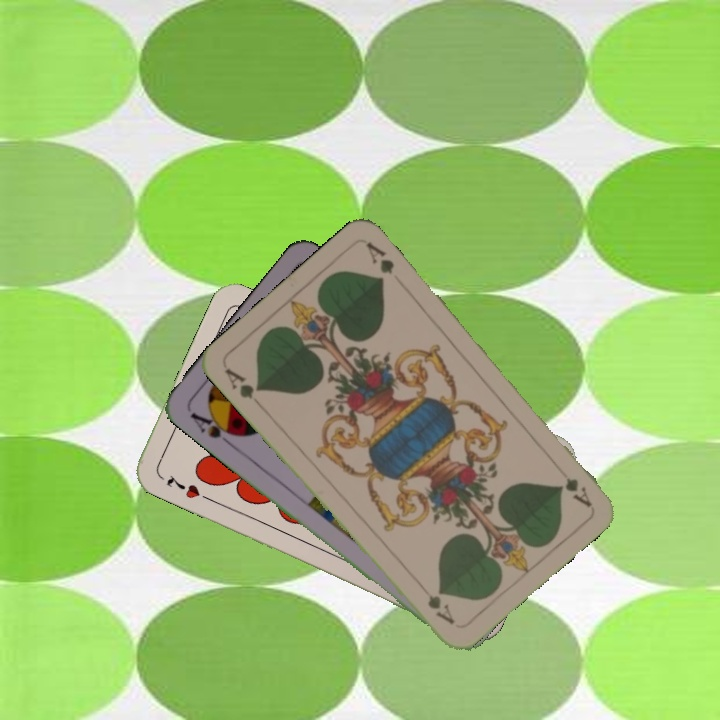GA: (551, 460, 595, 509), (221, 364, 266, 411)
H7: (162, 470, 213, 503)
SA: (186, 406, 242, 449)
